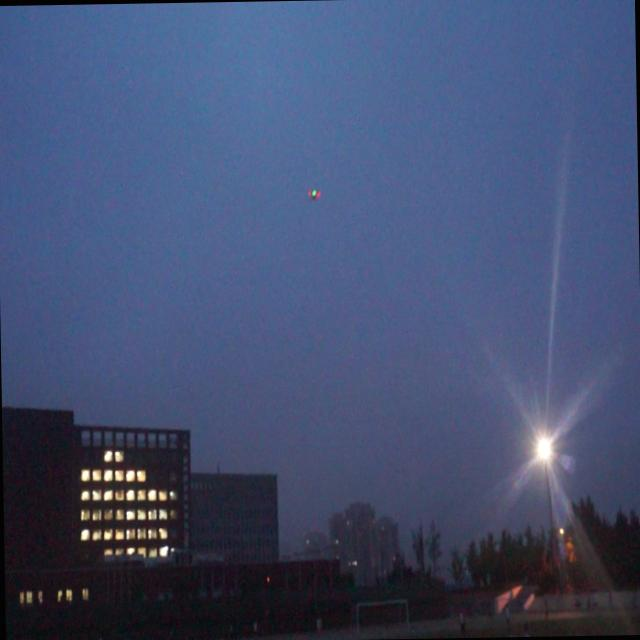drone: (306, 184, 323, 204)
